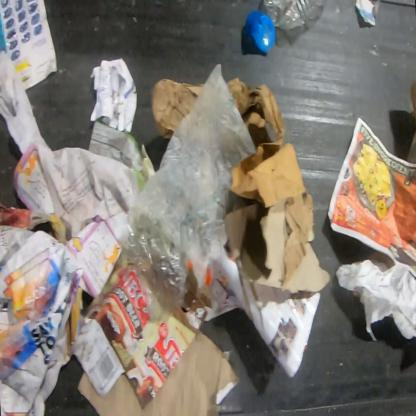cardboard: (68, 264, 212, 410), (75, 329, 242, 415), (225, 197, 332, 294)
rigid_plastic: (262, 0, 324, 31), (245, 8, 277, 56)
soft_plastic: (114, 63, 257, 326)
